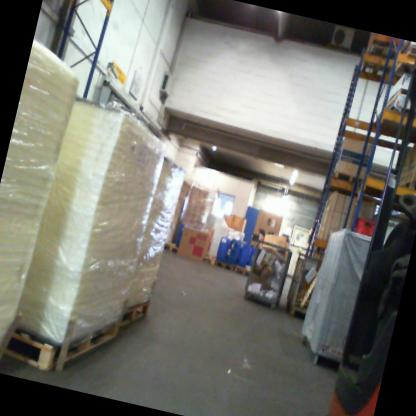forklift: (316, 43, 416, 416)
pallet: (0, 294, 127, 386), (353, 35, 400, 87), (114, 297, 150, 342), (327, 167, 367, 194), (212, 257, 238, 277), (160, 238, 185, 258), (387, 85, 416, 102), (233, 262, 255, 284), (398, 174, 416, 189)
stillage: (238, 233, 299, 316), (284, 242, 338, 325)
